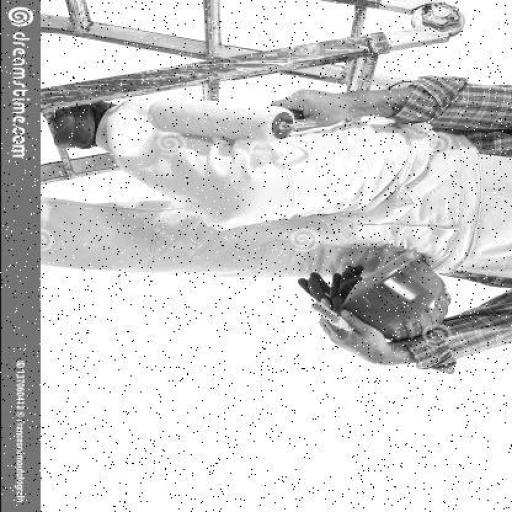safety_shoe: (52, 103, 122, 151)
